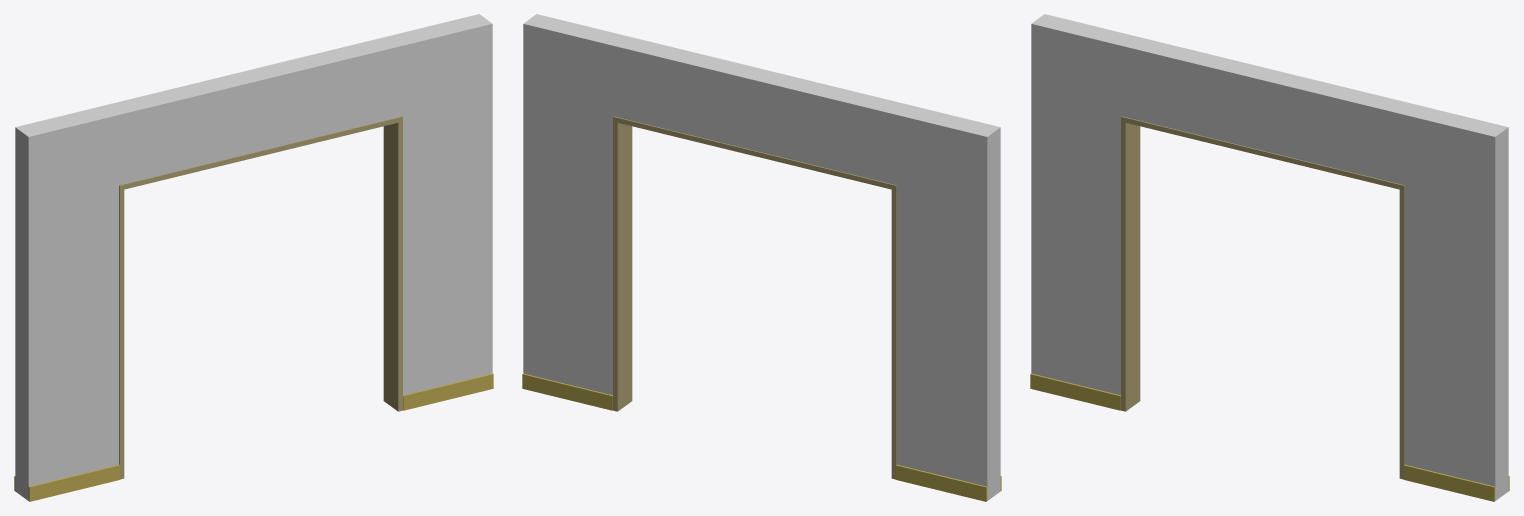
The model's file is MOD_13_WideOpening.fbx.
The picture shows the model from 3 angles, left to right: view 1: azimuth 30°, elevation 25°; view 2: azimuth 150°, elevation 25°; view 3: azimuth 330°, elevation 25°; orthographic projection.
Visible parts, largest first — view 1: MOD_13_WideOpening; view 2: MOD_13_WideOpening; view 3: MOD_13_WideOpening.
Boxes of the visible parts, x1,y1,x2,y2 form: MOD_13_WideOpening: [14, 14, 493, 501]; MOD_13_WideOpening: [522, 14, 1001, 501]; MOD_13_WideOpening: [1030, 14, 1509, 501].
Size of the model in its own units: 4 by 3 by 0.23.
